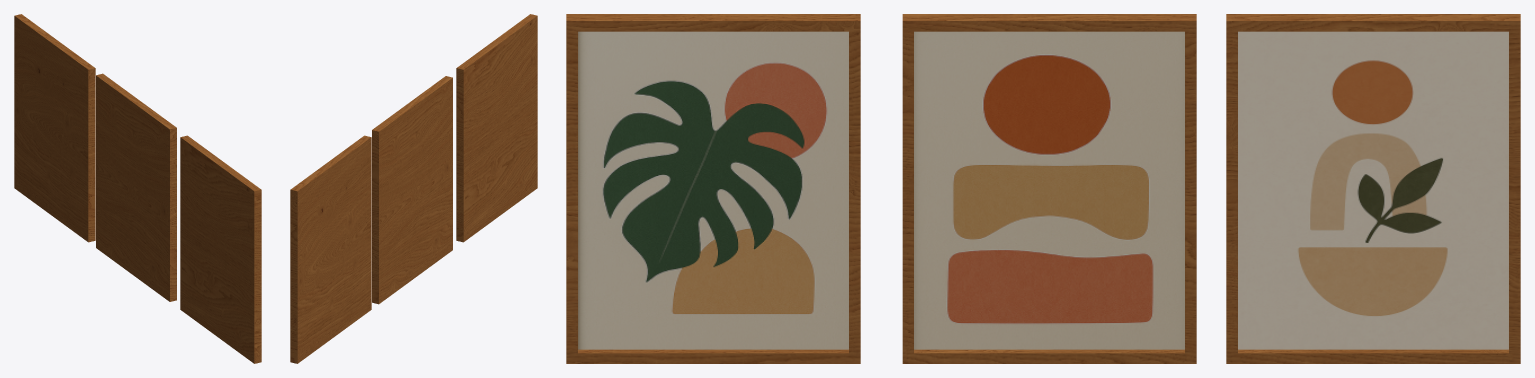
Rendered from Abstract_Wall_Art_Set_Game-ready_3D_Models.glb.
3 views of the same model, side by side, from view 1: azimuth 30°, elevation 25°; view 2: azimuth 150°, elevation 25°; view 3: azimuth 270°, elevation 25° (orthographic). The views are drawn at different scales.
Parts seen in each view (by area): view 1: Paint03__0, Paint01__0, Paint02__0; view 2: Paint03__0, Paint01__0, Paint02__0; view 3: Paint02__0, Paint03__0, Paint01__0.
Part boxes in pixels (x1=…): Paint03__0: x1=14, y1=14, x2=95, y2=242; Paint01__0: x1=180, y1=135, x2=261, y2=363; Paint02__0: x1=96, y1=73, x2=176, y2=301; Paint03__0: x1=290, y1=135, x2=371, y2=363; Paint01__0: x1=456, y1=14, x2=537, y2=242; Paint02__0: x1=372, y1=76, x2=452, y2=304; Paint02__0: x1=902, y1=14, x2=1196, y2=363; Paint03__0: x1=1226, y1=14, x2=1520, y2=363; Paint01__0: x1=566, y1=14, x2=860, y2=363.
Bounding box in the file's own units: 0.03 × 0.7 × 1.76.
1 material, 1 textured.
